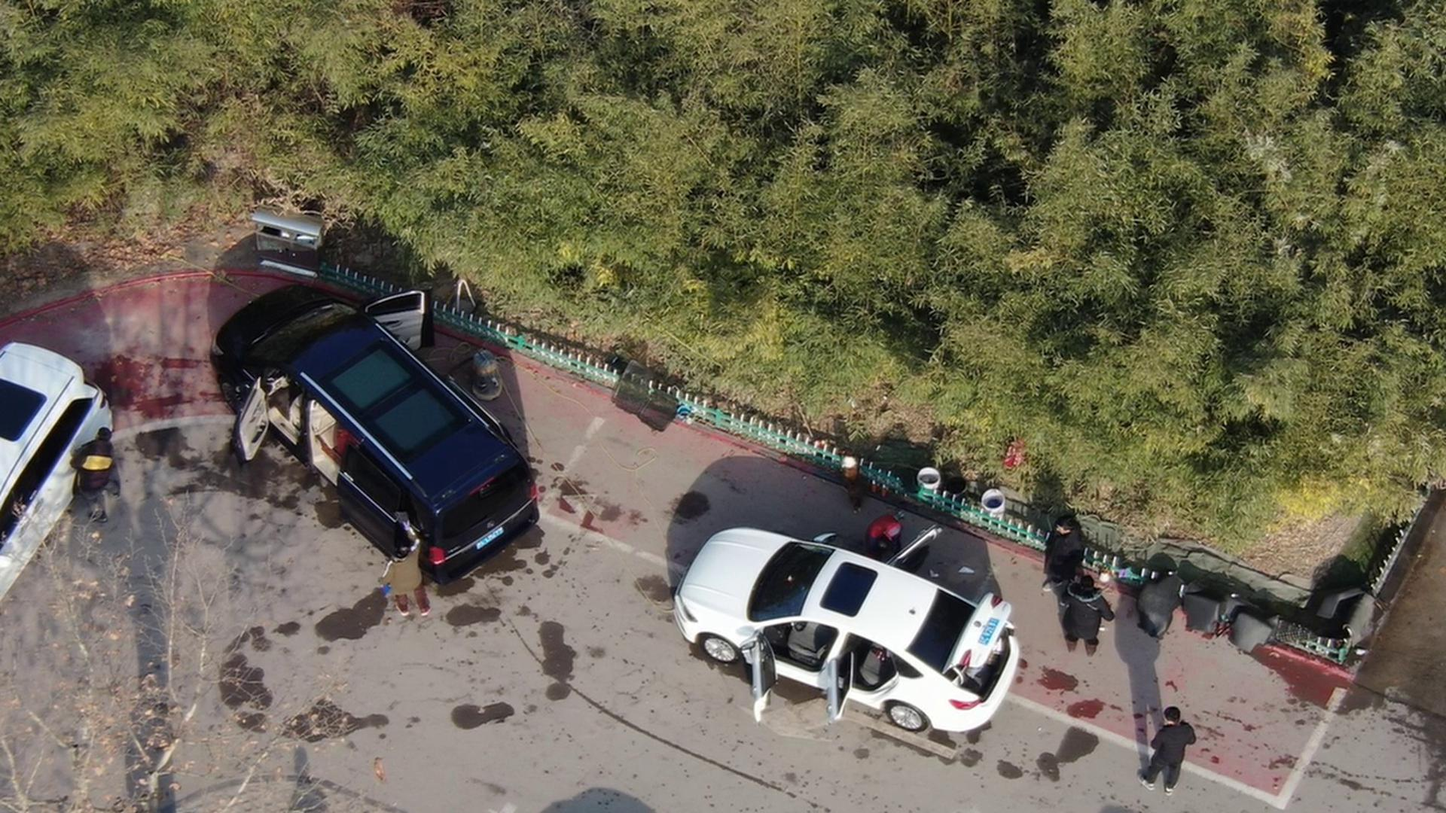human: (375, 519, 437, 618), (1130, 699, 1197, 790), (84, 426, 130, 525), (1058, 569, 1110, 656), (1039, 512, 1088, 586), (865, 513, 914, 564)
